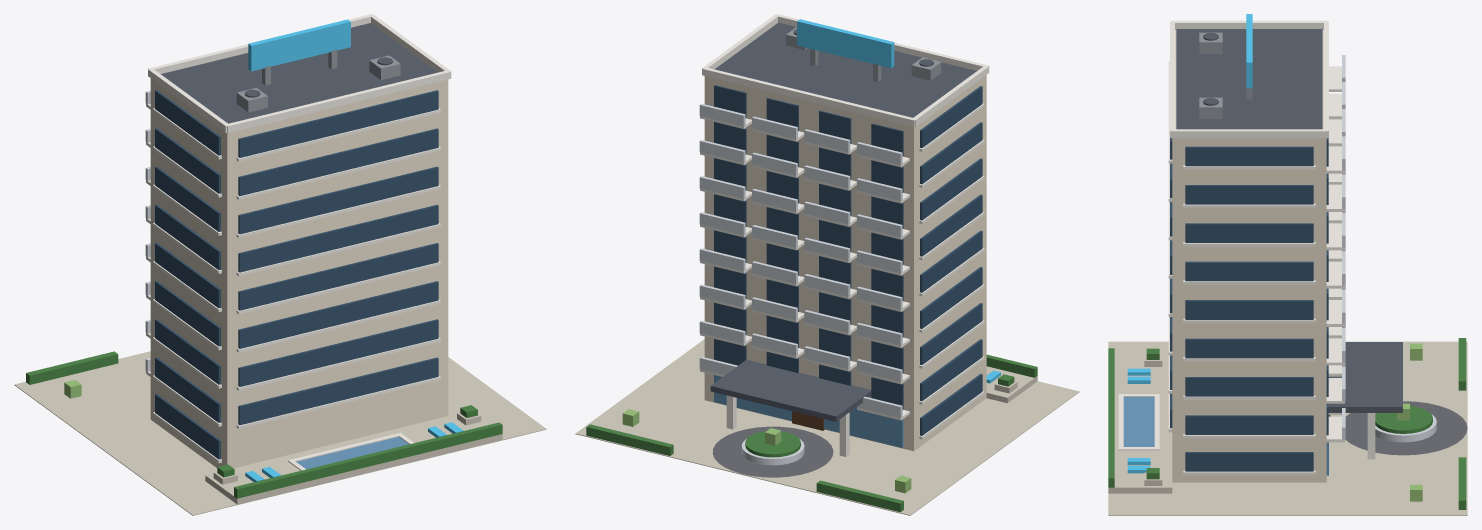
The model's file is hotel.glb.
3 views of the same model, side by side, from view 1: azimuth 30°, elevation 25°; view 2: azimuth 150°, elevation 25°; view 3: azimuth 270°, elevation 25° (orthographic). The views are drawn at different scales.
Parts seen in each view (by area): view 1: tower, window_band (×17), plaza, roof, sill (×8), parapet (×4), hedge (×2), terrace, sign, pool_water; view 2: tower, plaza, window_glass (×30), balcony_wall (×28), window_band (×9), roof, canopy, parapet (×4), turning_circle, hedge (×3), sign, storefront (+3 smaller); view 3: tower, window_band (×9), plaza, roof, sill (×9), terrace, canopy, parapet (×4), turning_circle, hedge (×3), pool_water, circle_planter_hedge (+4 smaller).
Part boxes in pixels (box(x1,y1,x2,y2)): tower: box(150, 78, 448, 468); window_band (×17): box(155, 90, 438, 459); plaza: box(14, 351, 546, 515); roof: box(161, 23, 437, 123); sill (×8): box(236, 108, 440, 428); parapet (×4): box(148, 14, 451, 133); hedge (×2): box(26, 351, 502, 498); terrace: box(205, 414, 502, 504); sign: box(248, 19, 350, 71); pool_water: box(296, 436, 408, 469); tower: box(704, 75, 986, 451); plaza: box(575, 339, 1079, 515); window_glass (×30): box(714, 85, 903, 409); balcony_wall (×28): box(699, 103, 902, 381); window_band (×9): box(920, 86, 982, 435); roof: box(714, 22, 976, 117); canopy: box(710, 359, 871, 421); parapet (×4): box(702, 14, 989, 126); turning_circle: box(712, 426, 833, 477); hedge (×3): box(586, 354, 1037, 512); sign: box(797, 19, 894, 68); storefront: box(714, 375, 903, 447); tower: box(1172, 30, 1326, 482); window_band (×9): box(1185, 146, 1313, 471); plaza: box(1108, 341, 1467, 515); roof: box(1176, 29, 1322, 129); sill (×9): box(1183, 165, 1315, 475); terrace: box(1108, 357, 1172, 493); canopy: box(1328, 342, 1402, 412); parapet (×4): box(1170, 20, 1328, 138); turning_circle: box(1345, 401, 1467, 455); hedge (×3): box(1108, 338, 1466, 509); pool_water: box(1123, 397, 1154, 446); circle_planter_hedge: box(1375, 406, 1432, 433).
Size of the model in its own units: 32 by 33.6 by 28.
